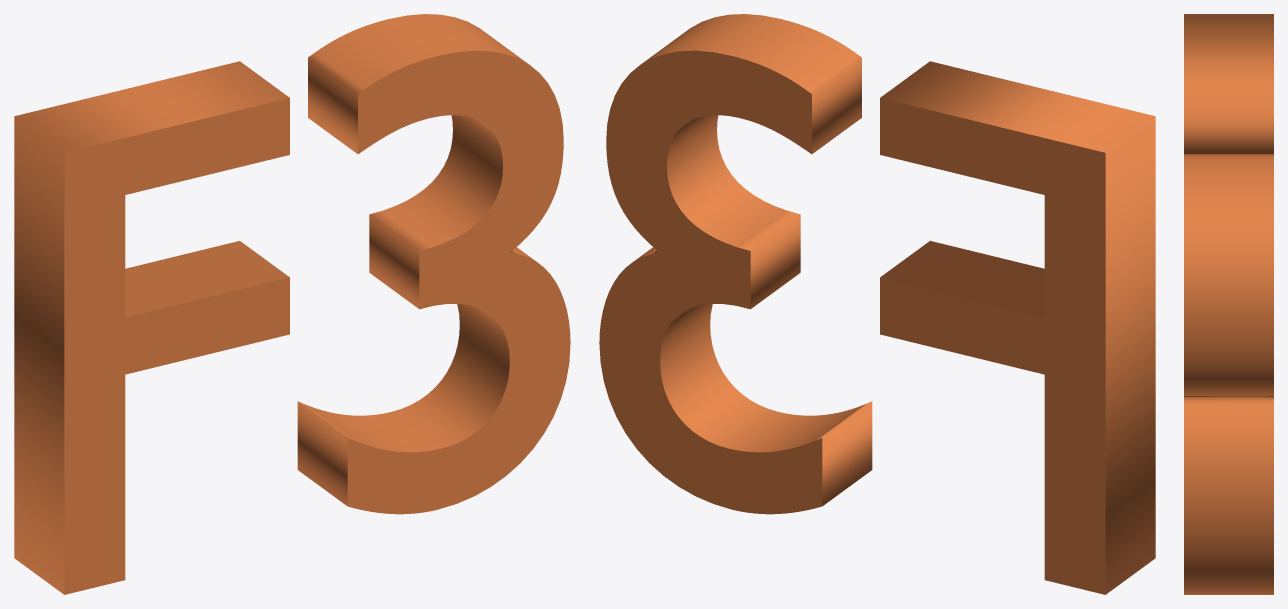
The picture shows the model from 3 angles, left to right: view 1: azimuth 30°, elevation 25°; view 2: azimuth 150°, elevation 25°; view 3: azimuth 270°, elevation 25°; orthographic projection. The views are drawn at different scales.
Parts seen in each view (by area): view 1: 텍스트; view 2: 텍스트; view 3: 텍스트.
Boxes of the visible parts, <box> form: 텍스트: <box>14,14,570,594</box>; 텍스트: <box>599,14,1155,594</box>; 텍스트: <box>1184,14,1273,594</box>.
Bounding box in the file's own units: 81.7 × 70 × 14.
